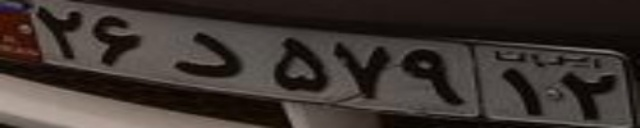1: (499, 68, 544, 116)
2: (557, 72, 617, 121), (34, 6, 83, 62)
5: (269, 37, 328, 91)
6: (90, 16, 145, 66)
7: (330, 42, 394, 99)
9: (399, 47, 465, 104)
dal: (168, 30, 243, 79)
